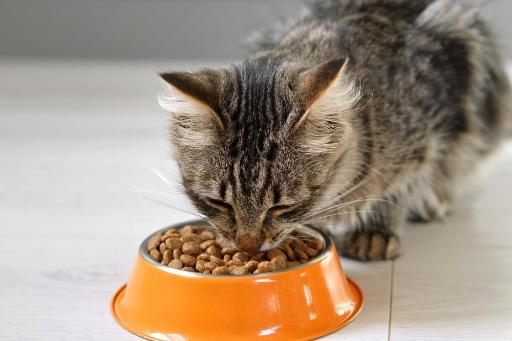cat_eating: (112, 0, 512, 341)
